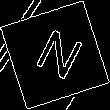N_SW: (26, 23, 84, 87)
